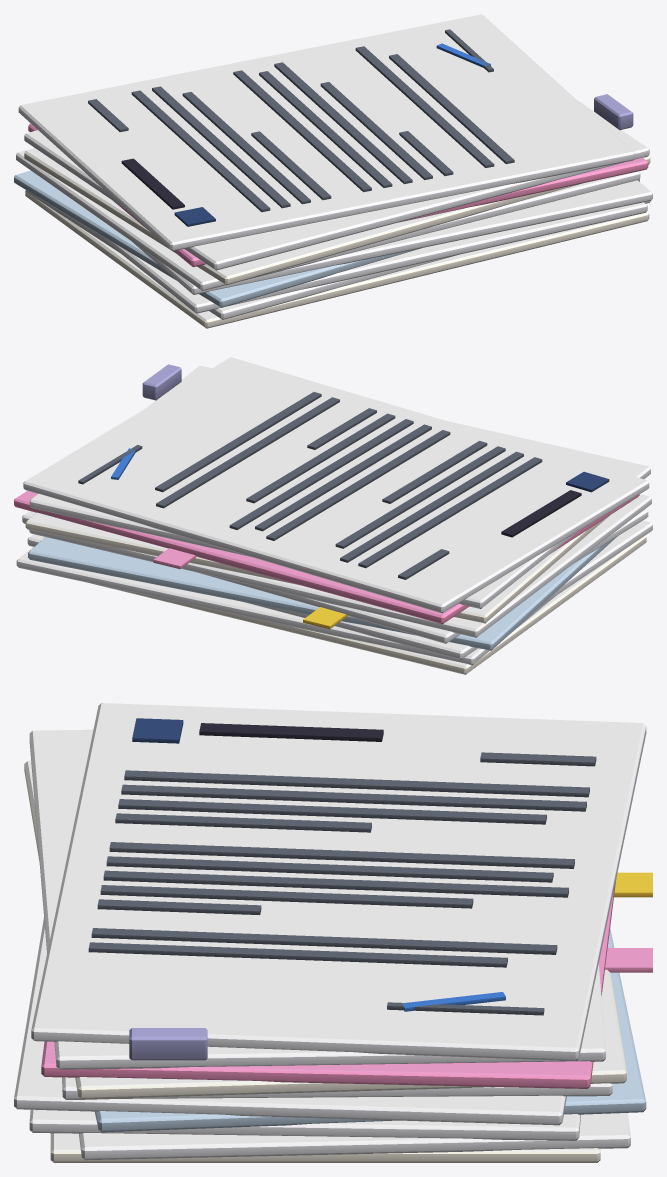
File: Paper_Stack.fbx
3 renders of one model, top to bottom at view 1: azimuth 30°, elevation 25°; view 2: azimuth 150°, elevation 25°; view 3: azimuth 270°, elevation 25°, orthographic. The views are drawn at different scales.
Parts seen in each view (by area): view 1: Paper_Stack; view 2: Paper_Stack; view 3: Paper_Stack.
Boxes of the visible parts, x1,y1,x2,y2 form: Paper_Stack: (14, 14, 652, 328); Paper_Stack: (14, 357, 652, 674); Paper_Stack: (14, 703, 652, 1162).
Size of the model in its own units: 1.43 by 0.2534 by 1.1.
1 material, 1 textured.
